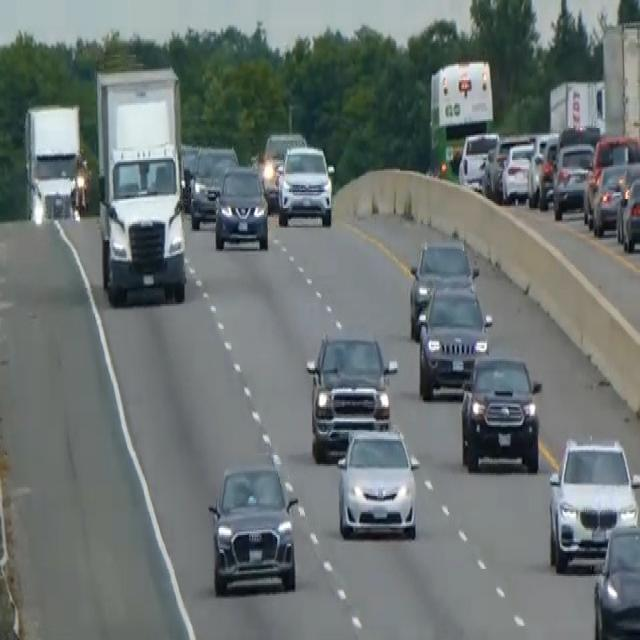car: (547, 434, 639, 572), (207, 460, 299, 596), (305, 330, 397, 460), (459, 350, 542, 473), (335, 425, 420, 540), (416, 277, 492, 400), (408, 236, 478, 338), (592, 521, 639, 638), (213, 162, 269, 250), (277, 142, 334, 228), (188, 142, 238, 228), (259, 130, 306, 210), (591, 160, 639, 236), (551, 140, 594, 218), (457, 128, 498, 188), (527, 133, 559, 208), (500, 140, 535, 204), (616, 172, 639, 252), (179, 142, 200, 208)
lorry: (94, 62, 188, 304)
motorcycle: (72, 153, 91, 213)
